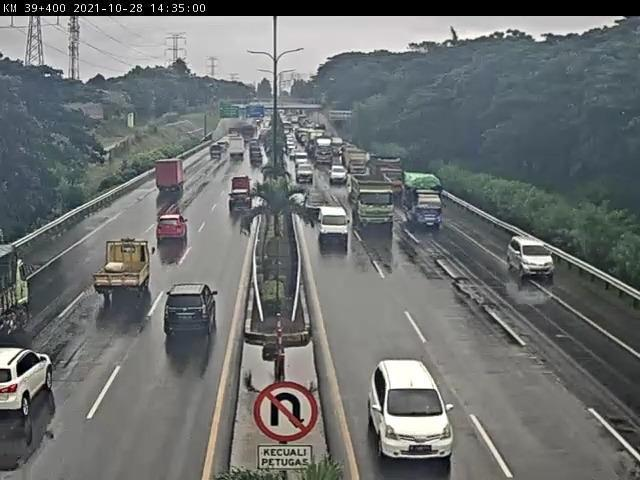car: (357, 353, 471, 470), (1, 345, 63, 433), (163, 277, 221, 338), (503, 232, 560, 287), (317, 207, 355, 248), (154, 216, 189, 243), (293, 159, 322, 187), (304, 193, 330, 218), (330, 163, 353, 188), (230, 177, 258, 194), (233, 194, 258, 213)
truck: (96, 238, 152, 298), (1, 244, 33, 337), (403, 173, 448, 238), (349, 178, 399, 232), (155, 159, 192, 200)
